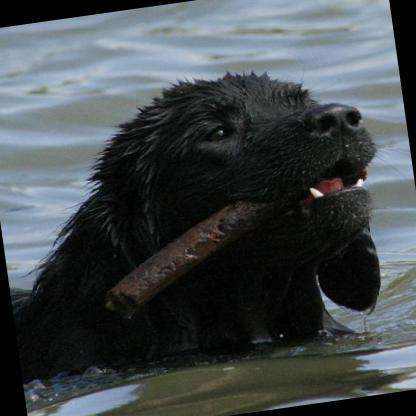Newfoundland: (0, 45, 413, 415)
